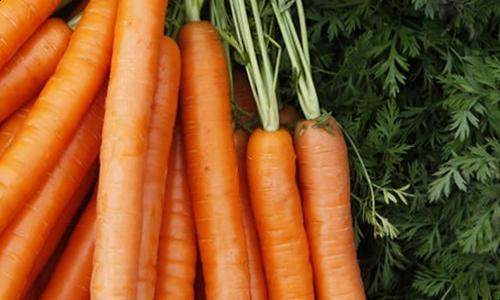carrot: (0, 0, 383, 300), (0, 0, 172, 300), (228, 0, 377, 300), (174, 20, 258, 300)
